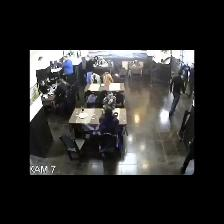person: (169, 70, 184, 118), (100, 107, 119, 134), (181, 136, 194, 174), (58, 56, 75, 85), (103, 91, 116, 109), (189, 64, 194, 97), (184, 63, 190, 90), (103, 73, 114, 85), (39, 81, 49, 93), (91, 72, 101, 83)
